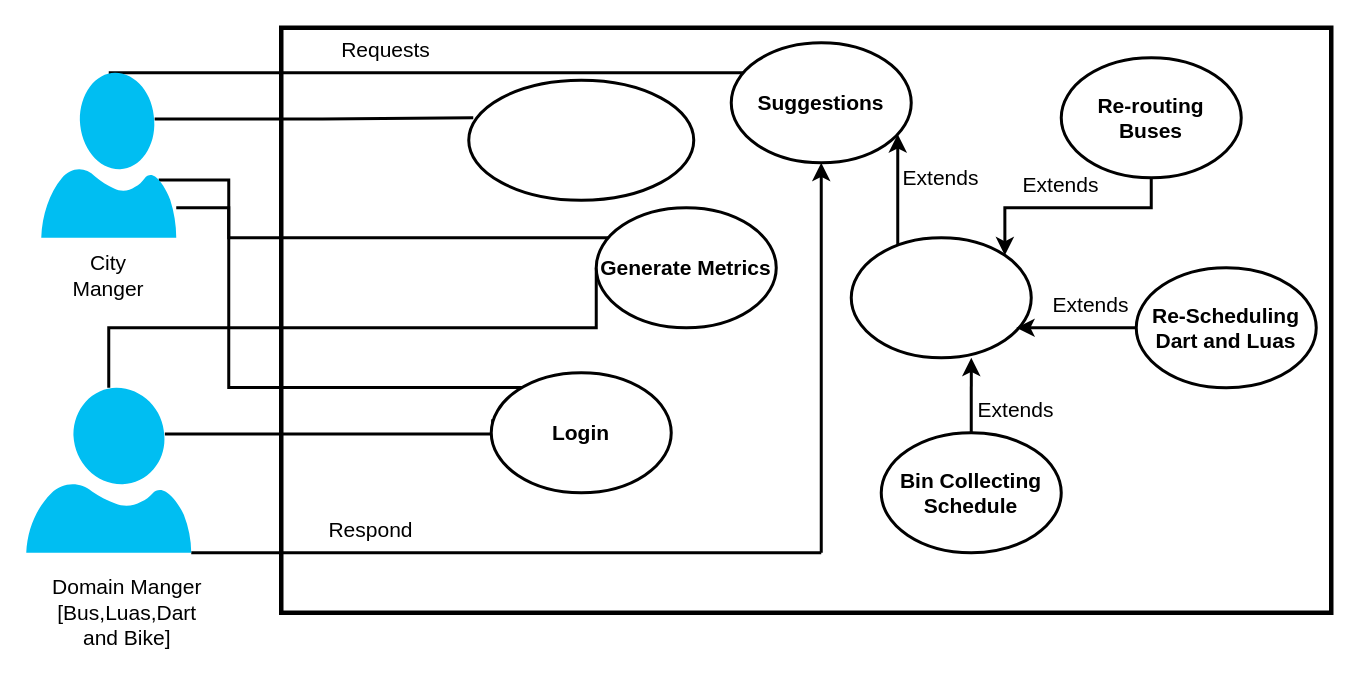
This 1359x684 diagram has some shape labels left out. The centre of each missing label's shape, as x and y in pixels:
"Add/Update/Remove User" goes at [580,139].
"Suggestion Approval" goes at [940,297].
